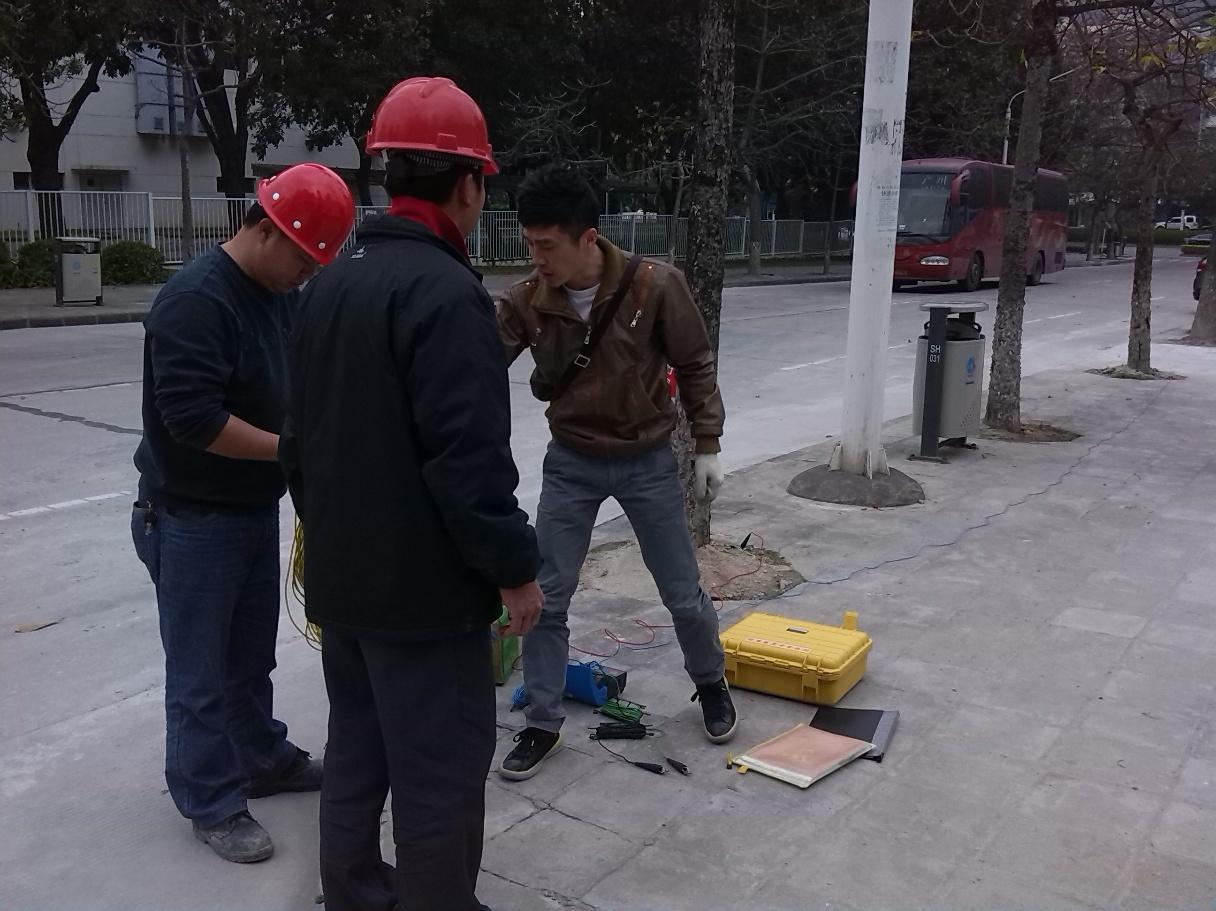gloves: (692, 448, 725, 504)
helmet: (351, 85, 505, 165), (260, 158, 347, 264)
no-gloves: (500, 569, 545, 644)
no-helmet: (514, 160, 597, 232)
no-vest: (304, 250, 493, 603), (520, 281, 688, 473), (167, 268, 288, 517)
person: (307, 80, 507, 911), (109, 141, 322, 832), (511, 166, 701, 790)
shoes: (192, 789, 265, 874), (506, 725, 559, 779), (263, 759, 336, 794), (696, 679, 733, 740)
